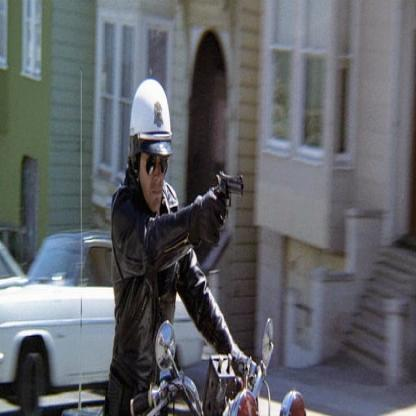gun: (207, 147, 259, 219)
